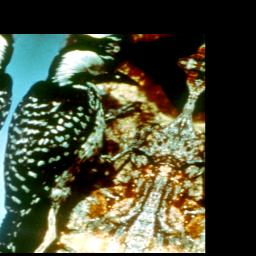Woodpecker: (0, 35, 195, 251)
